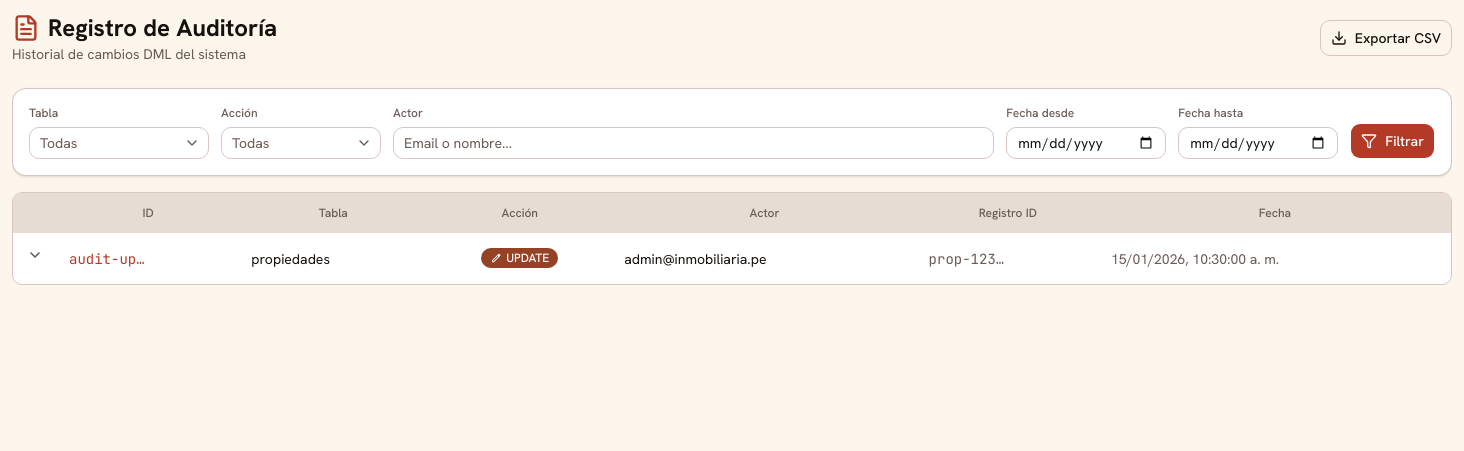
Scenario: <AuditLogPanel> (T-5.5) — audit log table with filters, diff, and pagination › (3) expand UPDATE row shows diff with valoresAntiguos and valoresNuevos
expect the text "UPDATE" is shown: met, box left=506, top=250, right=549, bottom=266
Note: The expand icon doesn't have a testid, so click the row directly
Click the text "UPDATE" at x=732, y=258, box left=13, top=233, right=1451, bottom=284
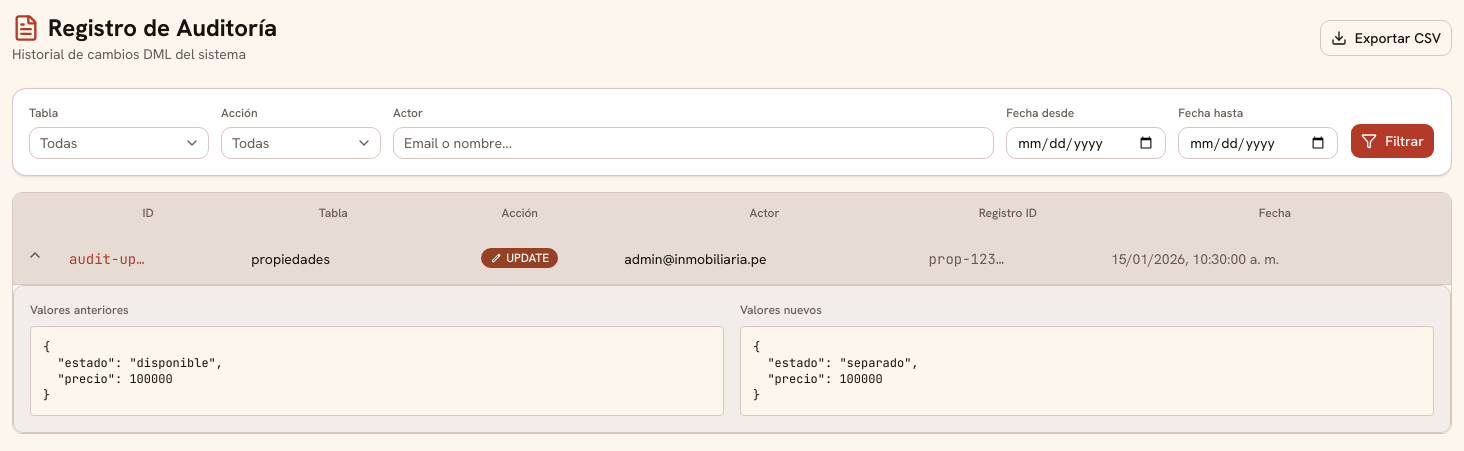
expect the text "Valores anteriores" is shown: met, box left=30, top=302, right=129, bottom=318
expect the text "Valores nuevos" is shown: met, box left=740, top=302, right=822, bottom=318
expect the text "{ \"estado\": \"disponible\", \"precio\": 100000 }" is shown: met, box left=30, top=326, right=724, bottom=416
